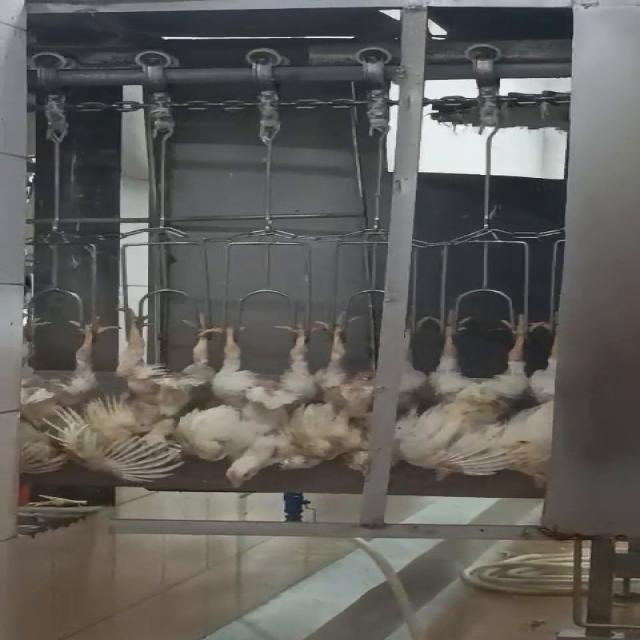chicken: (400, 315, 555, 483), (190, 313, 318, 489), (0, 320, 117, 487), (96, 310, 208, 479), (295, 316, 365, 481)
